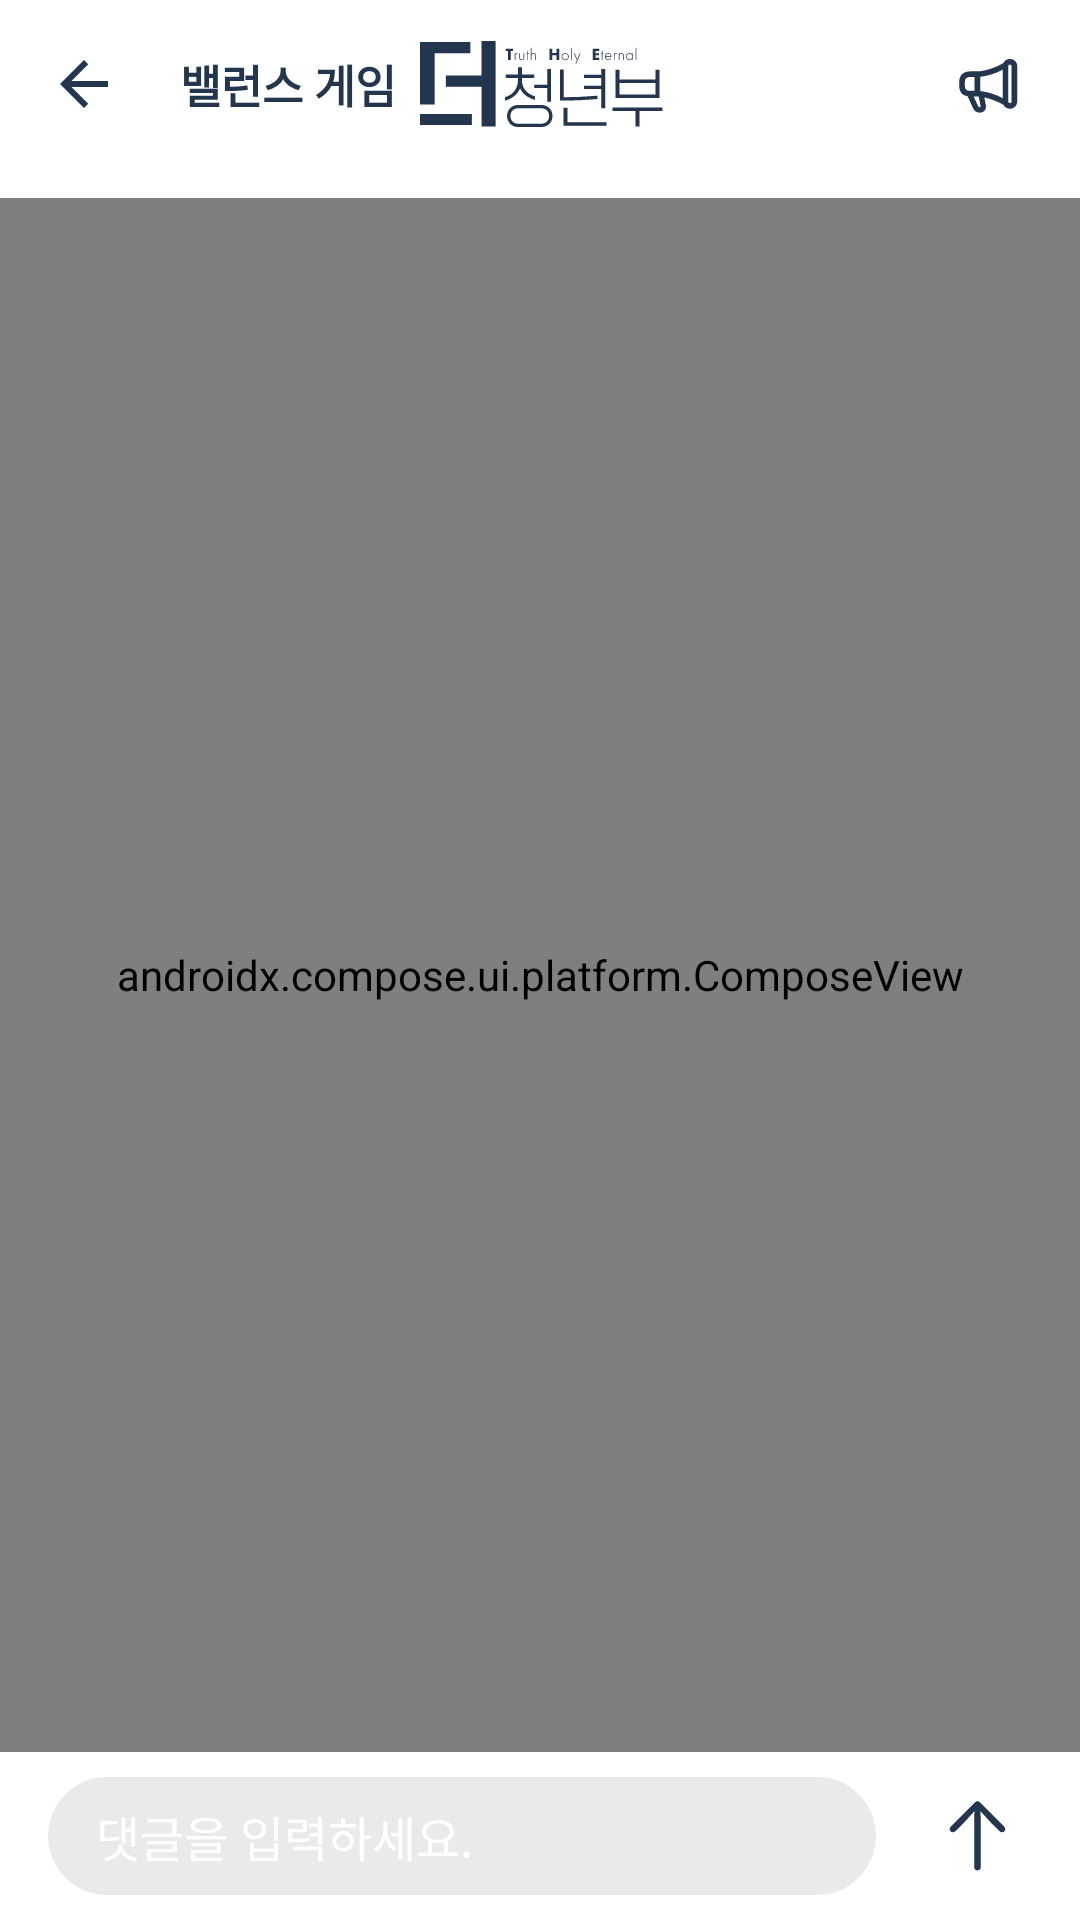

Named icons in this screenshot (1080 × 1920) and their bounding boxes, (x1, y1, x2, y2):
report: (959, 59, 1018, 113)
send: (949, 1801, 1006, 1871)
